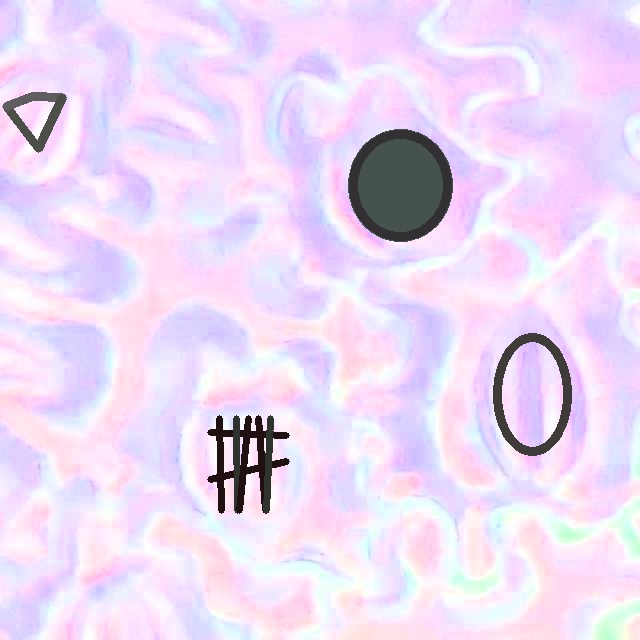close: (348, 129, 453, 241), (2, 92, 66, 151)
open: (493, 332, 571, 455), (207, 416, 289, 512)
